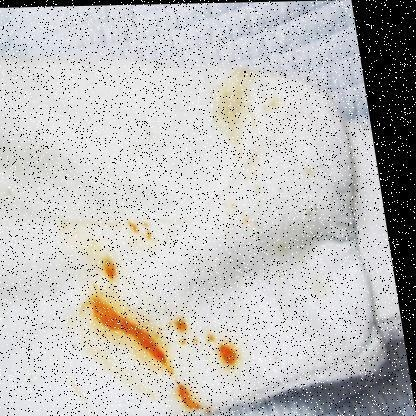kimchi: (79, 293, 180, 374), (212, 66, 261, 180), (219, 204, 281, 256), (203, 329, 245, 377), (170, 380, 215, 413), (122, 215, 164, 243), (91, 256, 130, 284), (172, 316, 193, 346), (264, 96, 283, 112), (301, 163, 319, 179)
